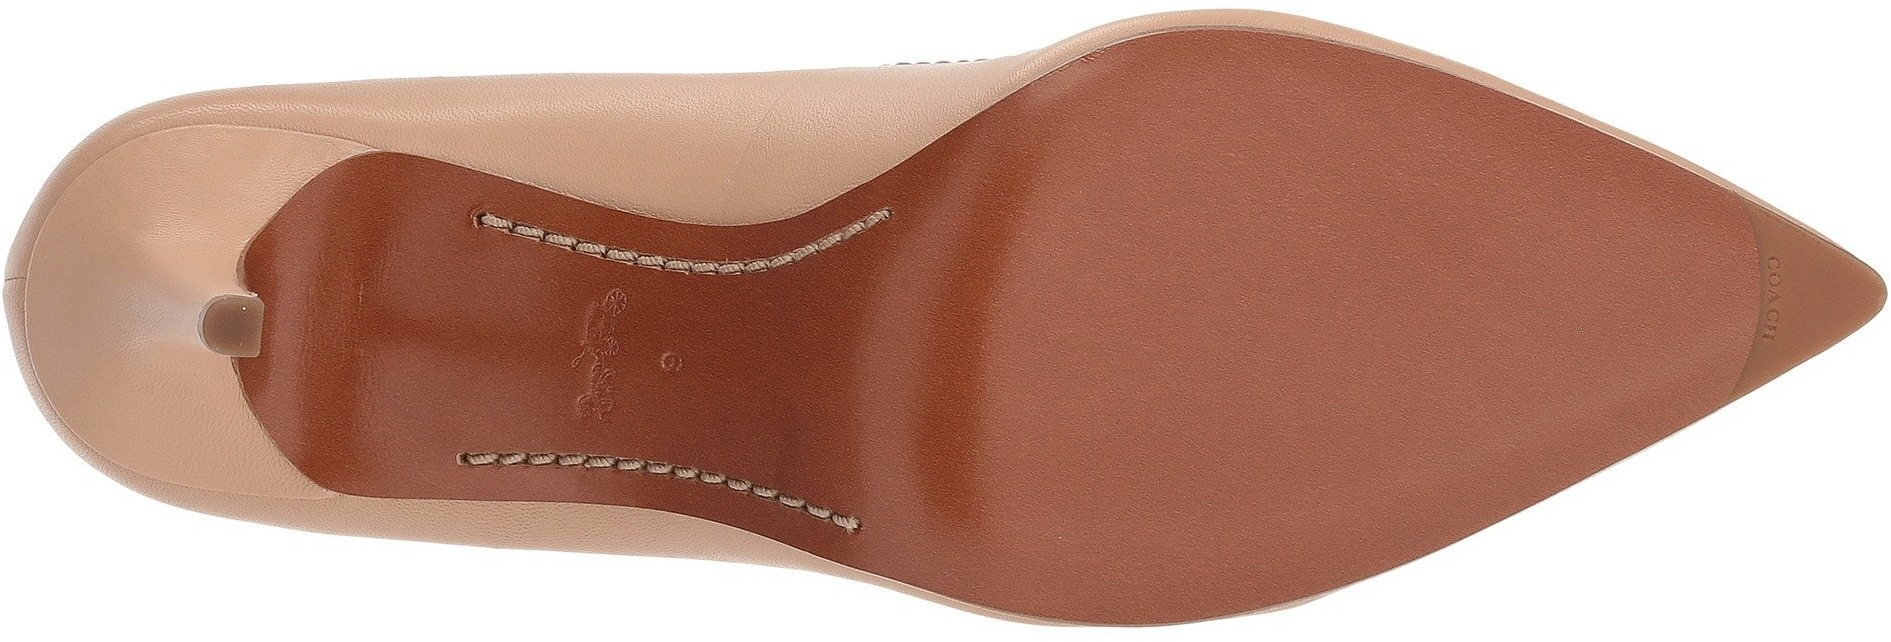exclude: (1, 54, 295, 599)
other: (1143, 78, 1409, 311), (1413, 167, 1653, 418), (1149, 313, 1391, 535), (921, 183, 1144, 378), (923, 384, 1131, 577), (215, 297, 263, 352)
text: (1741, 257, 1801, 313)
